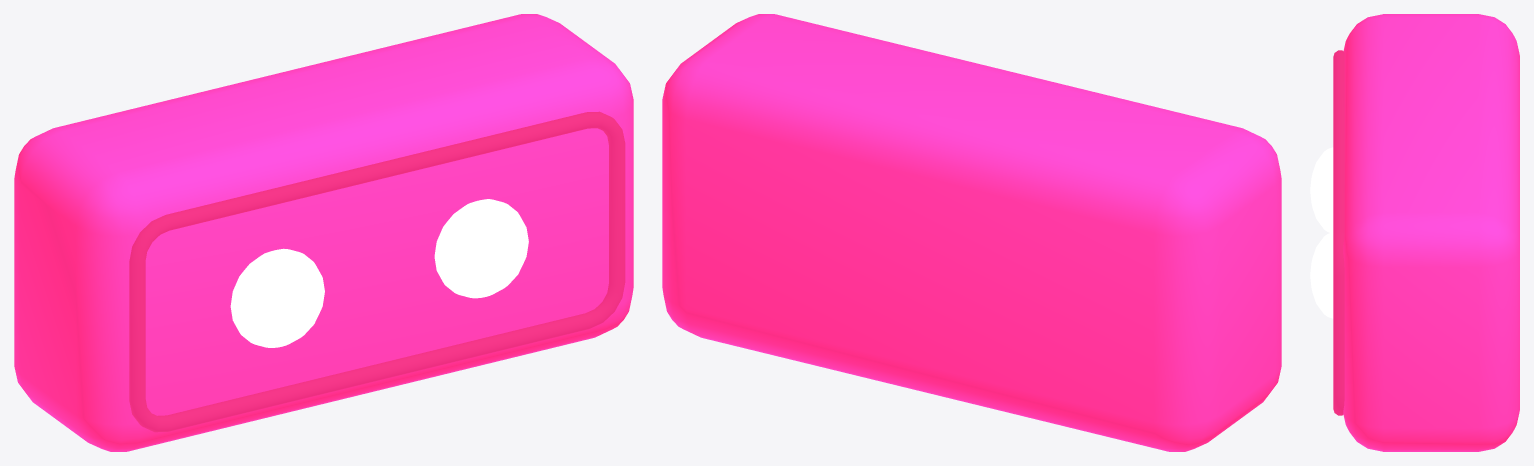
Rendered from brick_double.glb.
3 views of the same model, side by side, from view 1: azimuth 30°, elevation 25°; view 2: azimuth 150°, elevation 25°; view 3: azimuth 270°, elevation 25° (orthographic). The views are drawn at different scales.
Visible parts, largest first — view 1: type_double; view 2: type_double; view 3: type_double.
Part boxes in pixels (bbox=[...]): type_double: bbox=[14, 14, 633, 451]; type_double: bbox=[662, 14, 1281, 451]; type_double: bbox=[1310, 14, 1519, 451].
Bounding box in the file's own units: 0.92 × 0.44 × 0.355.
